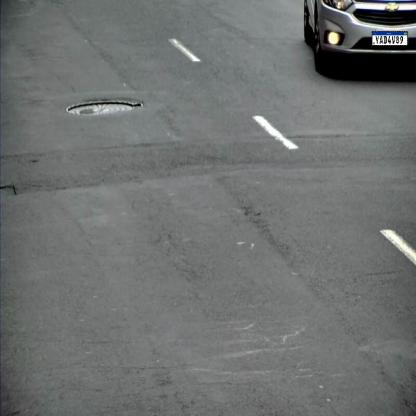PlacaM: (372, 31, 407, 46)
